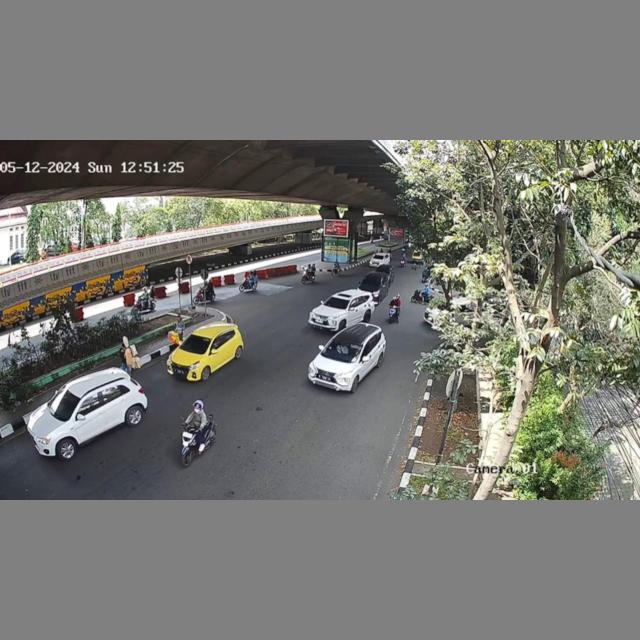windshield: (321, 338, 363, 362), (178, 334, 211, 353), (322, 296, 349, 312)
